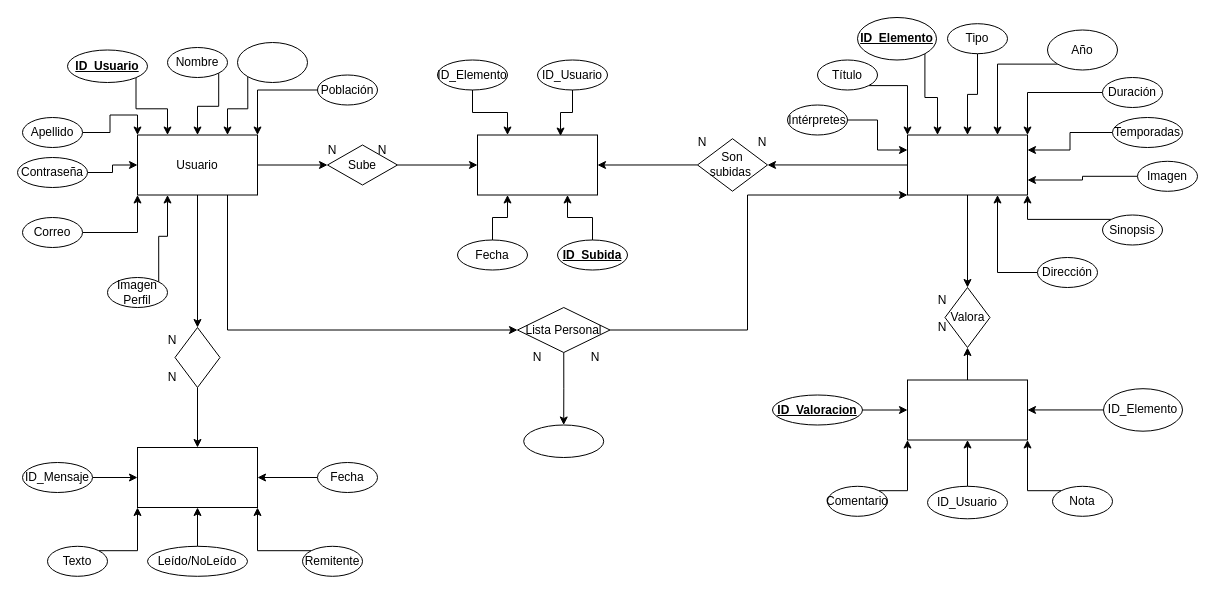
The diagram is 1215 pixels wide and 594 high, and some of its shapes have lost their labels. Here are the shapes that lost their labels. From the top down, the centre of each, then its label:
point (272, 62): Fecha Nacimiento
point (537, 164): Subidas
point (967, 164): Película/Serie
point (197, 357): Manda
point (967, 409): Valoracion
point (563, 441): ID_Lista
point (197, 477): Mensajes
